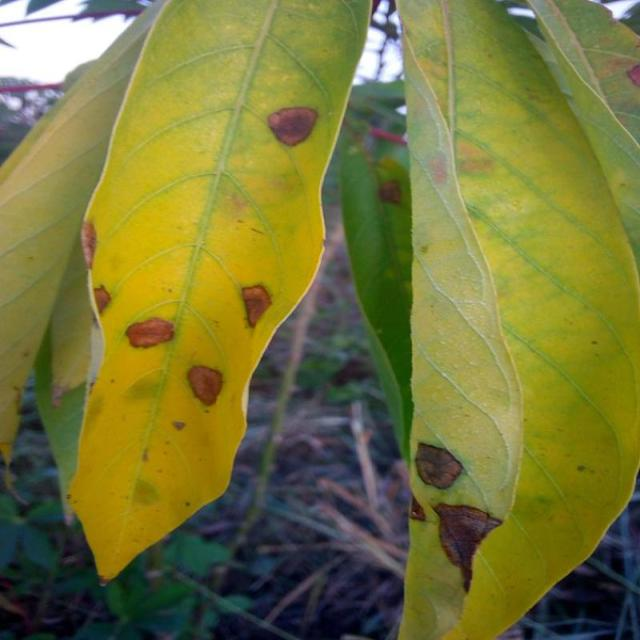cassava leaf: (63, 0, 373, 582), (393, 0, 638, 638)
